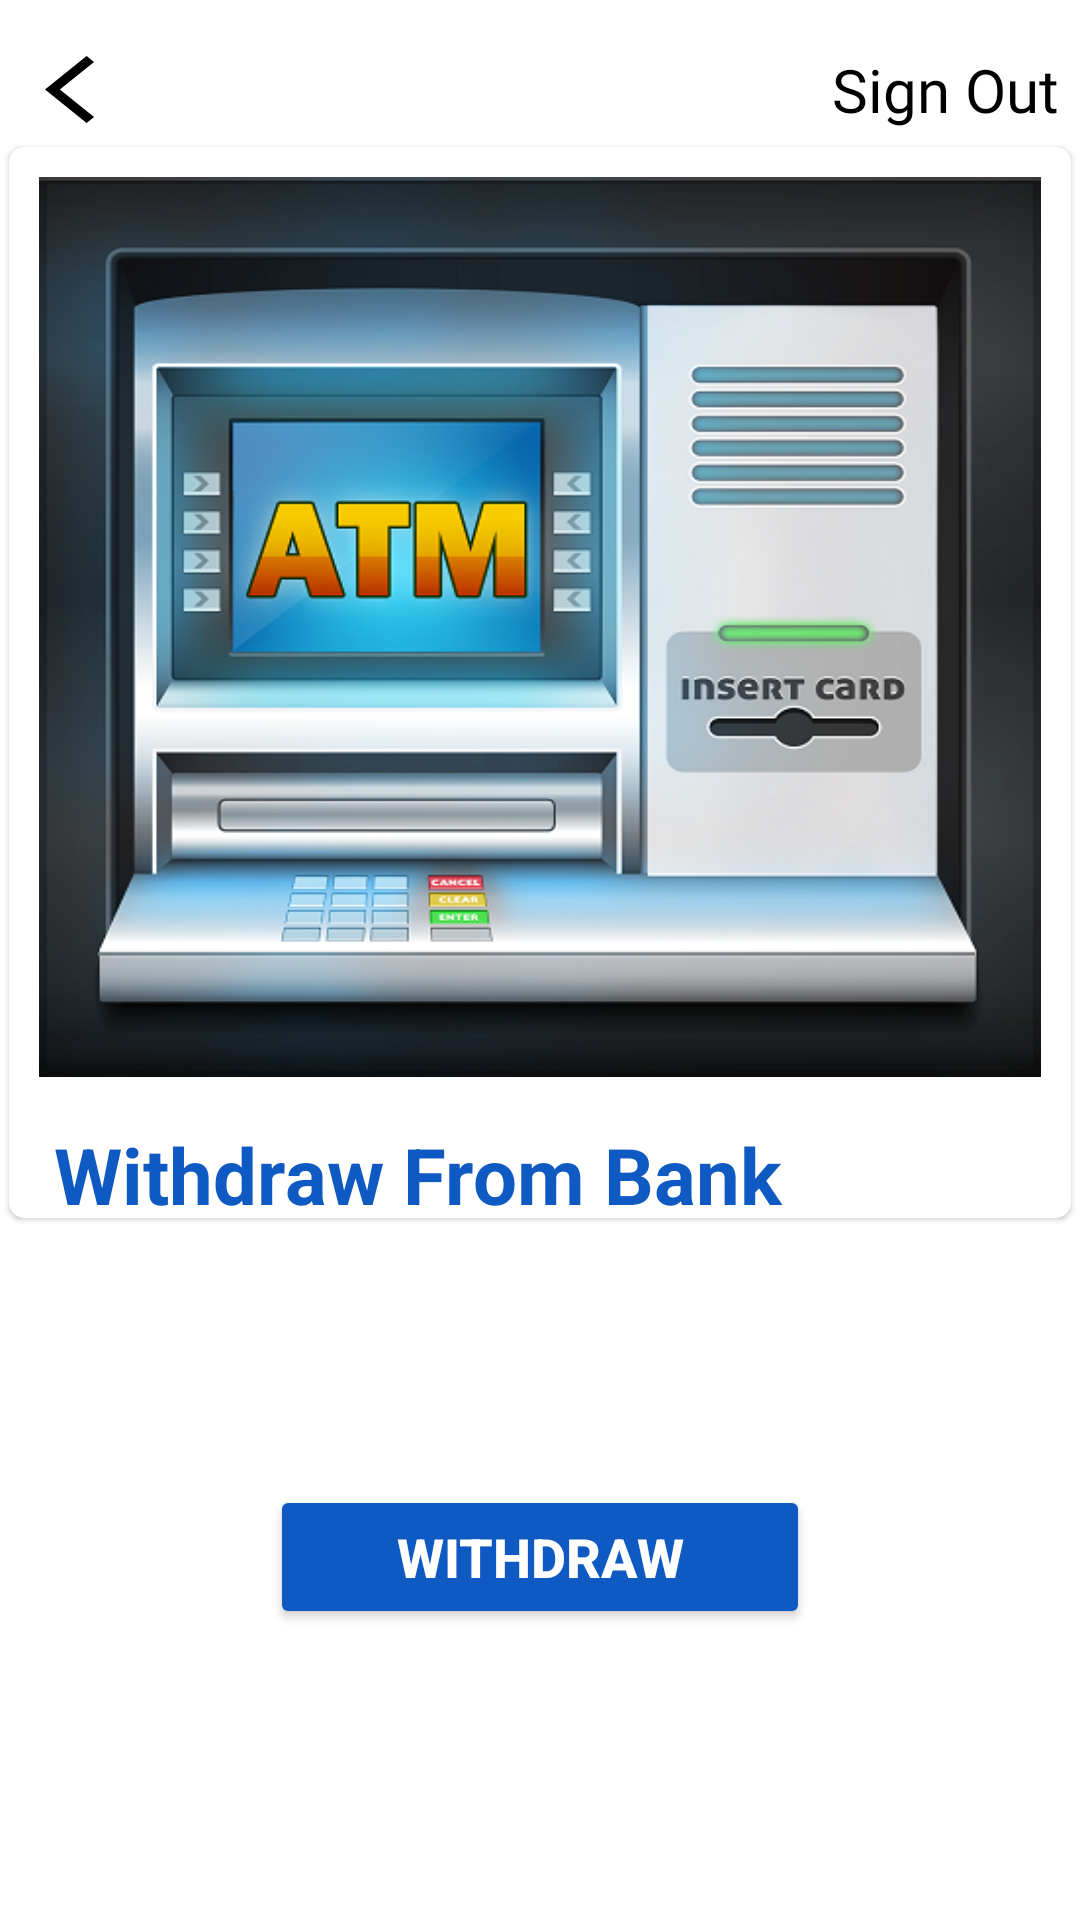

Locate icon controls on the screen. Image size 1080 x 1920, boxes as (x1, y1, x2, y2).
back arrow: (45, 56, 94, 123)
